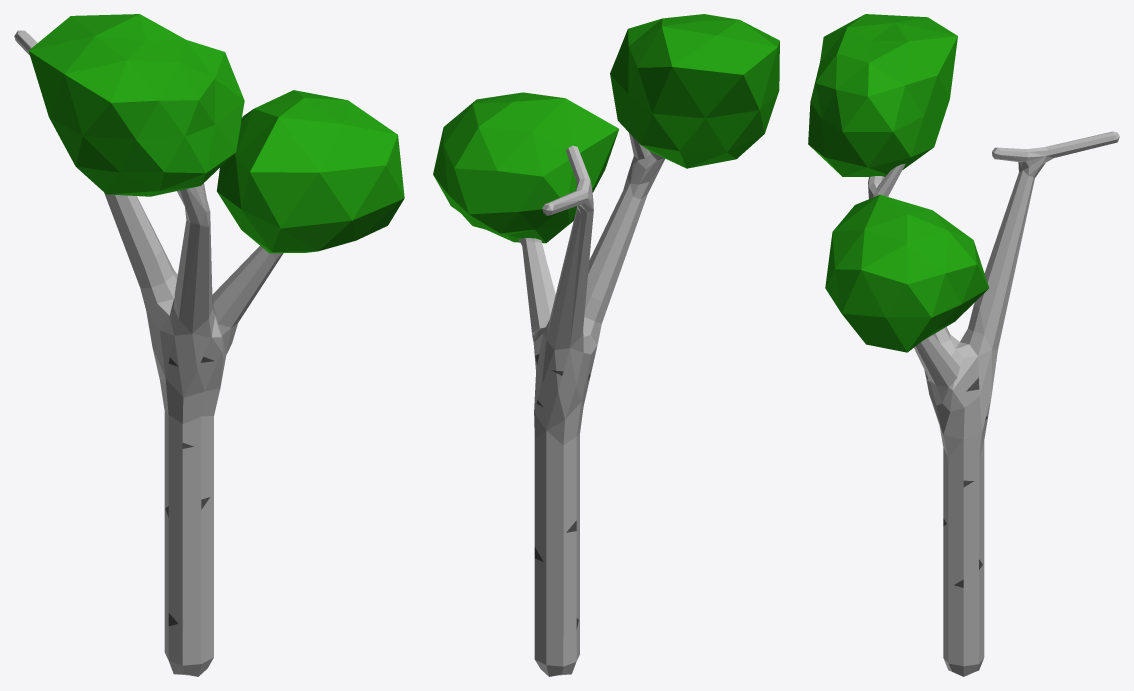
File: Birch_3.fbx
The picture shows the model from 3 angles, left to right: view 1: azimuth 30°, elevation 25°; view 2: azimuth 150°, elevation 25°; view 3: azimuth 270°, elevation 25°; orthographic projection. The views are drawn at different scales.
Visible parts, largest first — view 1: Birch3_mesh; view 2: Birch3_mesh; view 3: Birch3_mesh.
Part boxes in pixels (x1=…): Birch3_mesh: x1=14, y1=14, x2=404, y2=676; Birch3_mesh: x1=433, y1=14, x2=779, y2=676; Birch3_mesh: x1=808, y1=14, x2=1119, y2=676.
Bounding box in the file's own units: 275 × 545 × 257.
